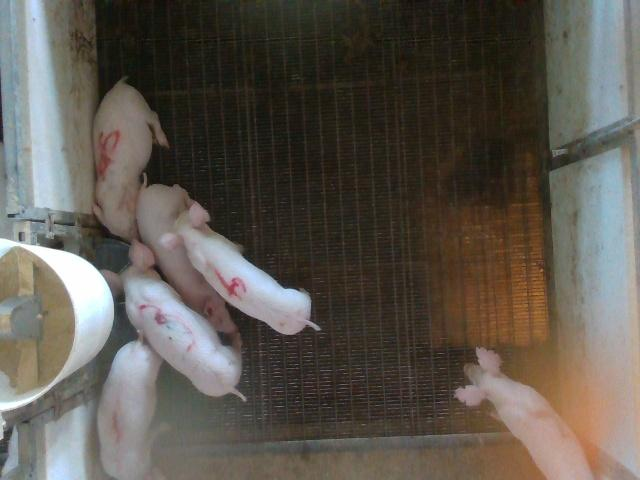pig-1: (96, 336, 162, 479)
pig-2: (455, 348, 592, 479)
pig-3: (101, 243, 244, 401)
pig-4: (161, 202, 320, 334)
pig-5: (92, 78, 169, 242)
